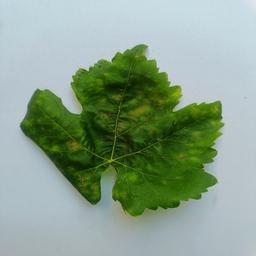Powdery-Mildew: (178, 127, 207, 171), (81, 64, 120, 95), (38, 134, 85, 153), (187, 104, 221, 130), (72, 166, 97, 200), (116, 167, 140, 201), (130, 94, 159, 120), (109, 116, 137, 136), (145, 116, 166, 141), (33, 92, 59, 112)
